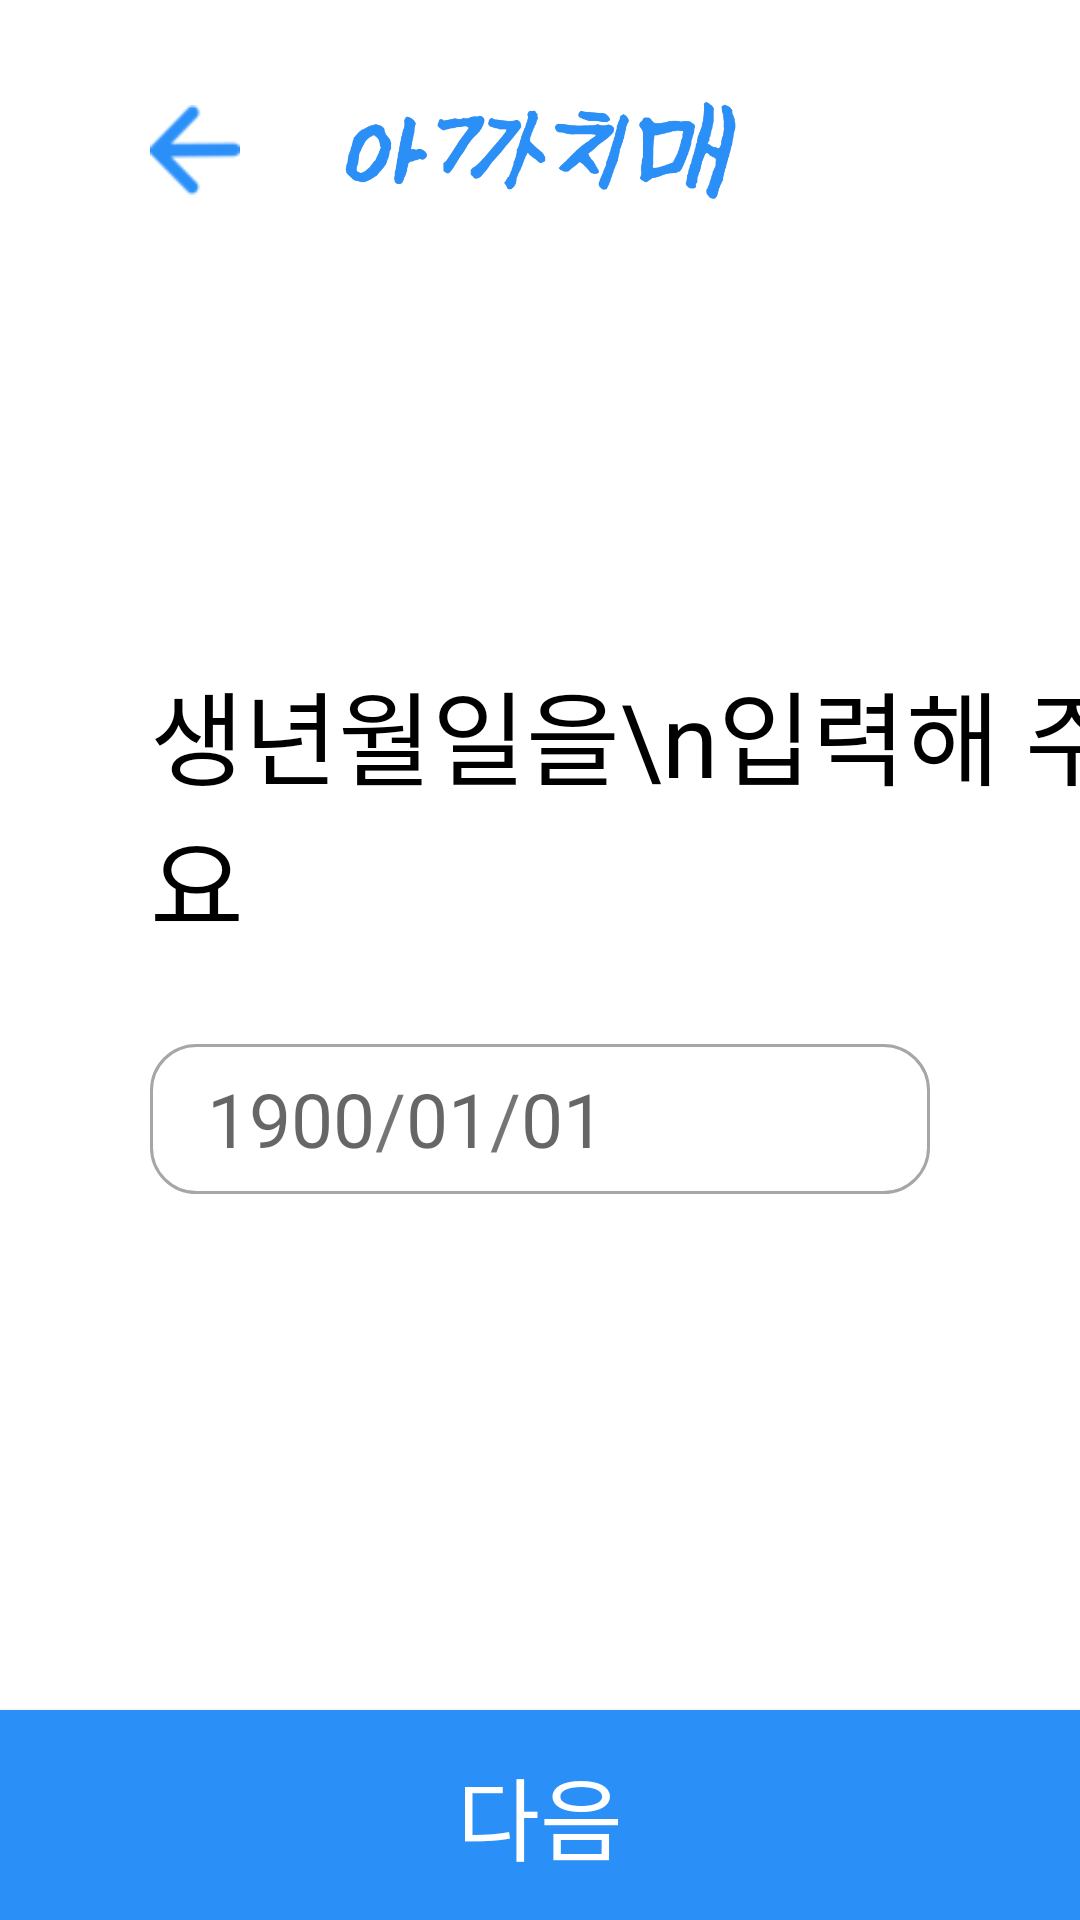

Where icons sit on this 1080×1920 app screen, as (x1, y1, x2, y2):
back: (150, 105, 240, 195)
